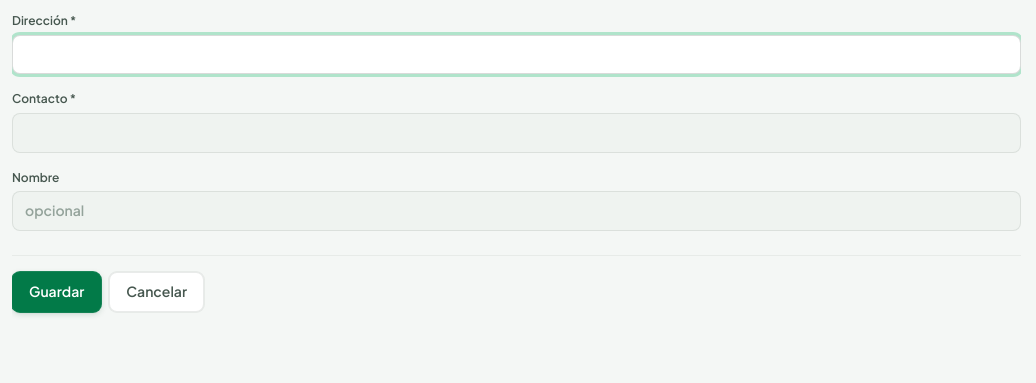
Test: ClienteForm › exige contacto cuando ya hay dirección
This screenshot has width=1036, height=383.
Type "Av. Balmaceda 1240" into the field labelled "Dirección *" at (516,54), box [12,35,1021,74]
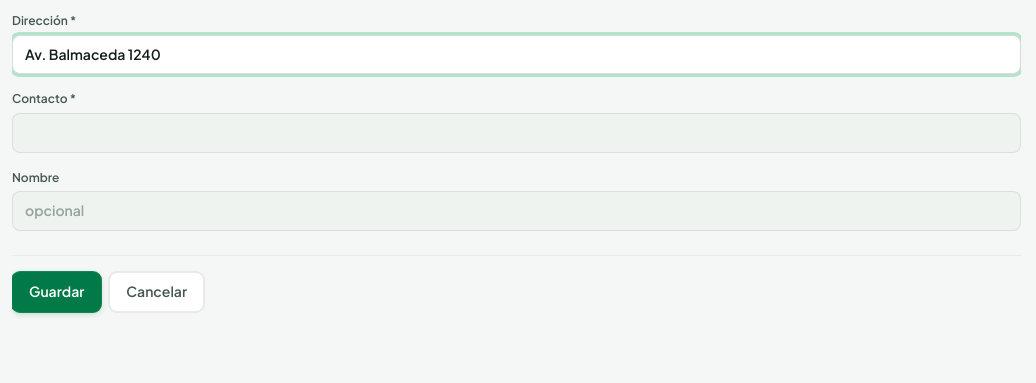
Click the button "Guardar" at (57,292), box [12,272,101,312]
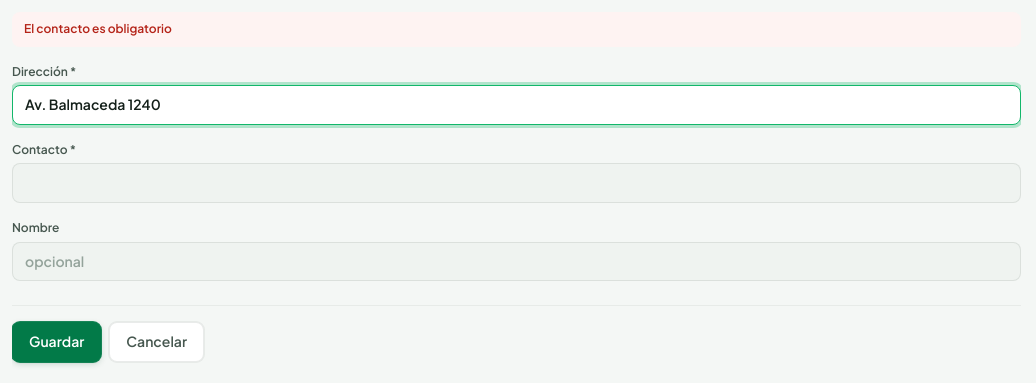
Check: the text "El contacto es obligatorio" is shown, box [12,12,1021,47]
